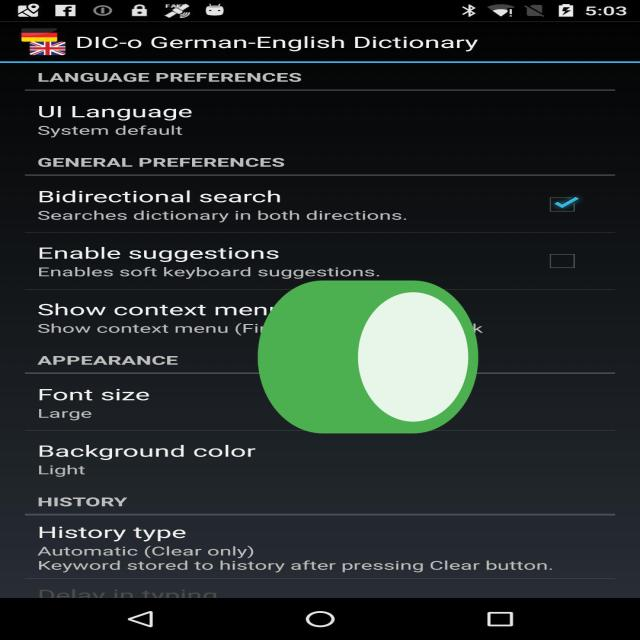social proof: (248, 222, 488, 504)
